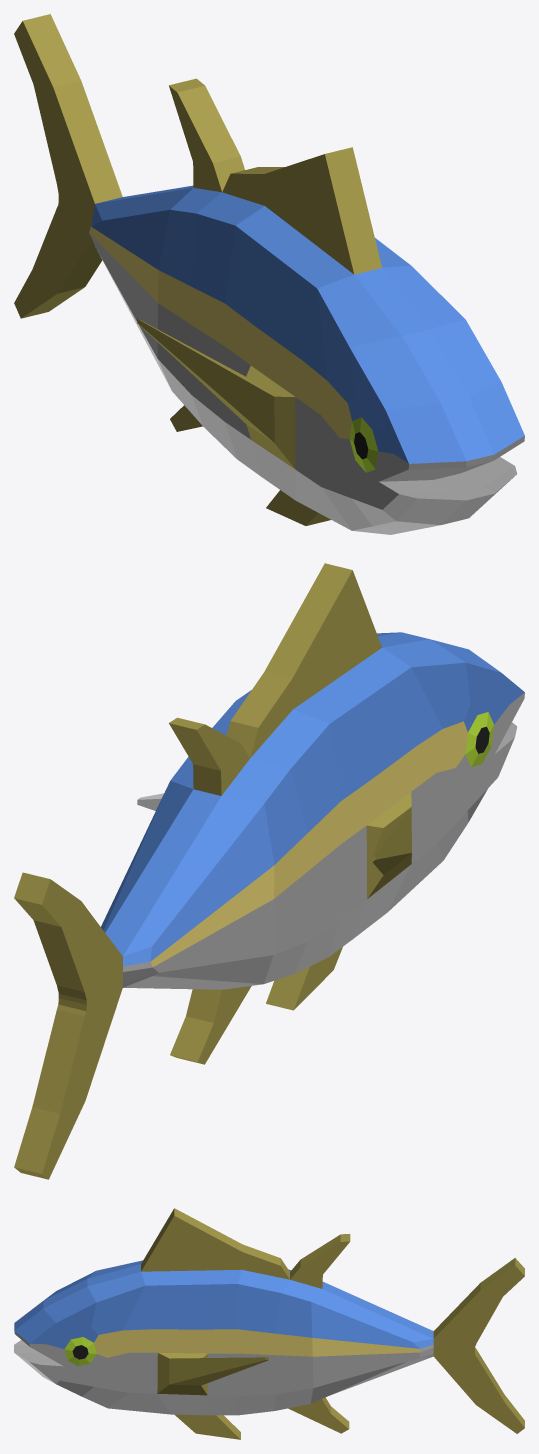
Rendered from tuna1FBX.fbx.
The picture shows the model from 3 angles, top to bottom: view 1: azimuth 30°, elevation 25°; view 2: azimuth 150°, elevation 25°; view 3: azimuth 270°, elevation 25°; orthographic projection. The views are drawn at different scales.
Visible parts, largest first — view 1: Cube; view 2: Cube; view 3: Cube.
Part boxes in pixels (x1,y1,x2,y2): Cube: (14,14,524,534); Cube: (14,563,524,1179); Cube: (14,1208,524,1439).
Size of the model in its own units: 141 by 228 by 470.
